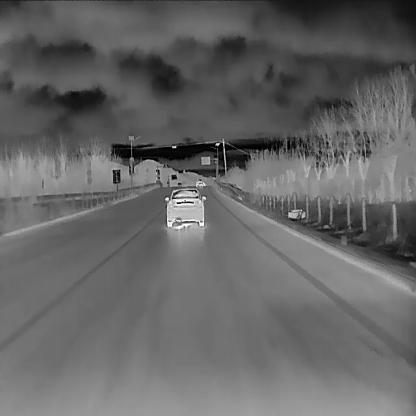car: (164, 186, 206, 227), (194, 177, 204, 187)
